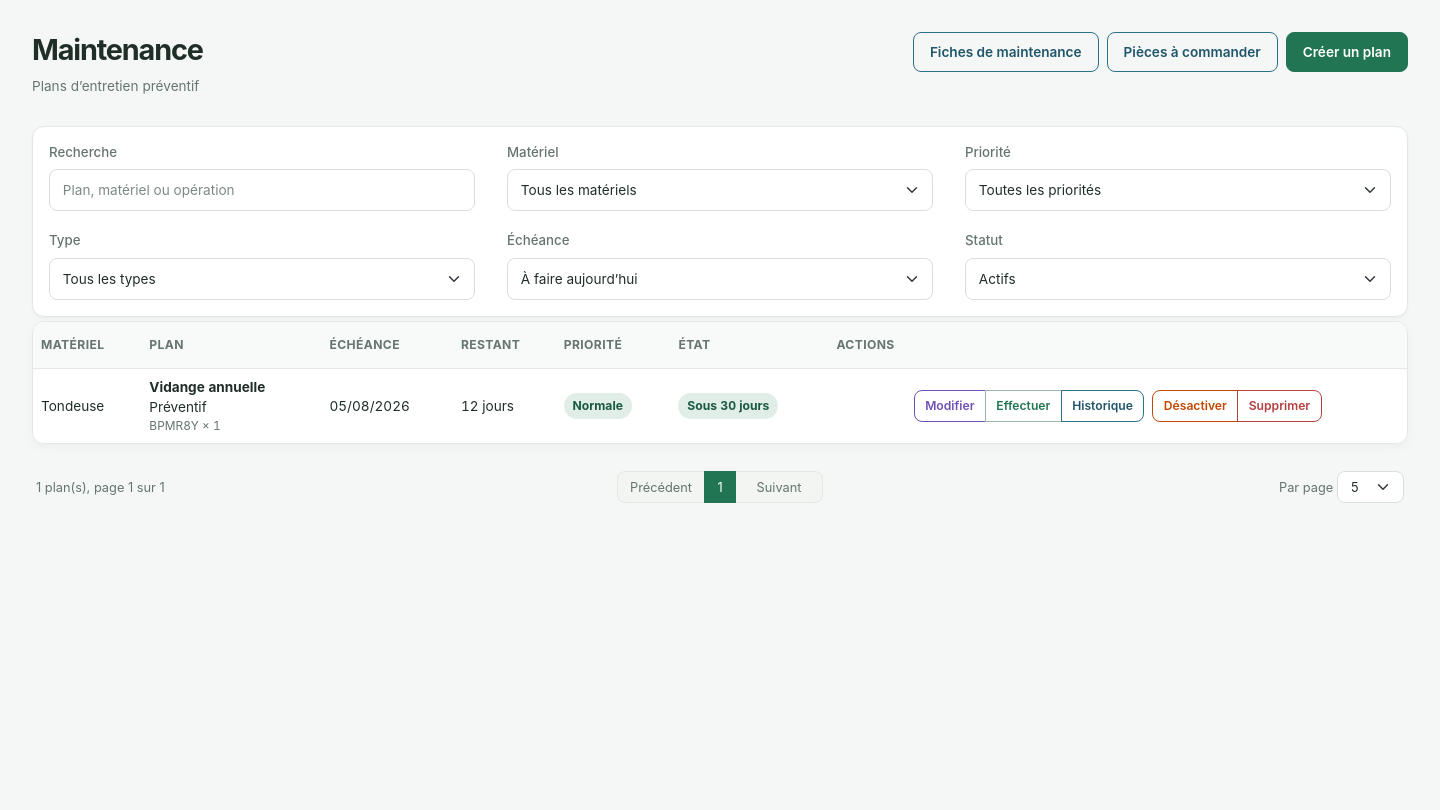
Test: MaintenancePage › shows maintenance sheets only with their dedicated permission
expect the text "12 jours" is shown: met, box [453,368,556,443]
Click the button "Fiches de maintenance" at (1006, 52), box [913,32,1099,72]
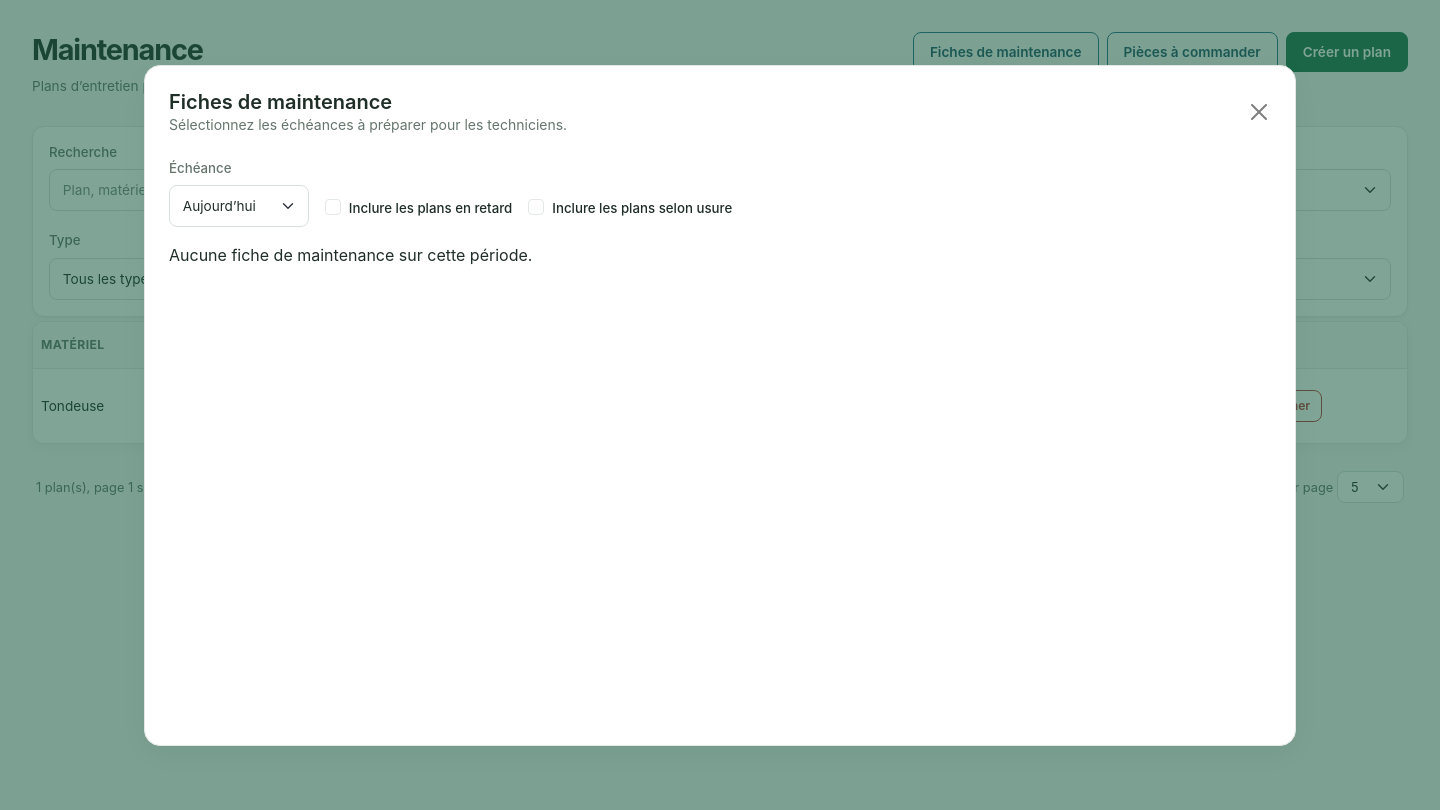
expect the dialog "Fiches de maintenance" is shown: met
